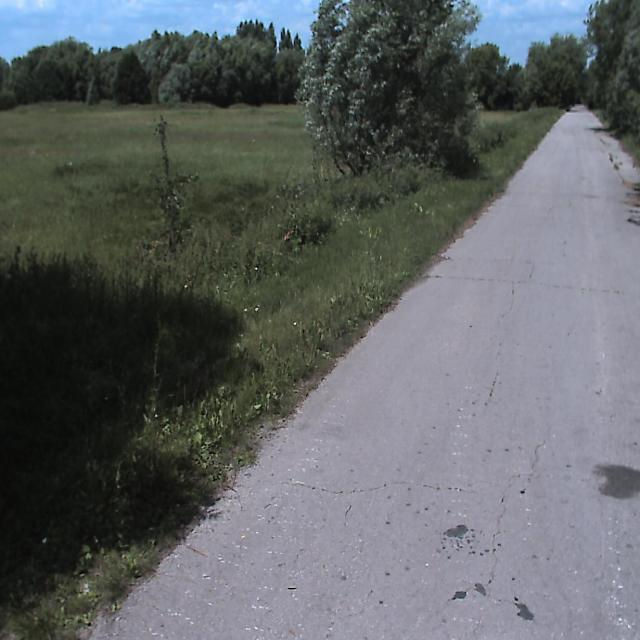road: (81, 105, 639, 639)
